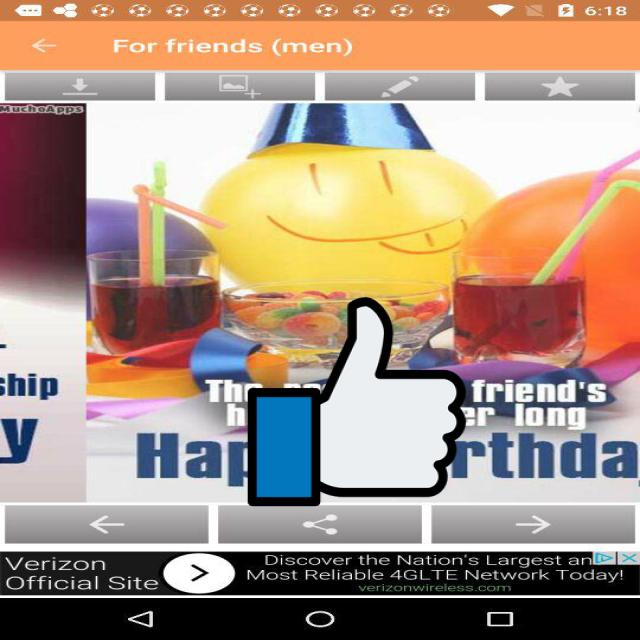privacy zuckering: (248, 292, 466, 510)
